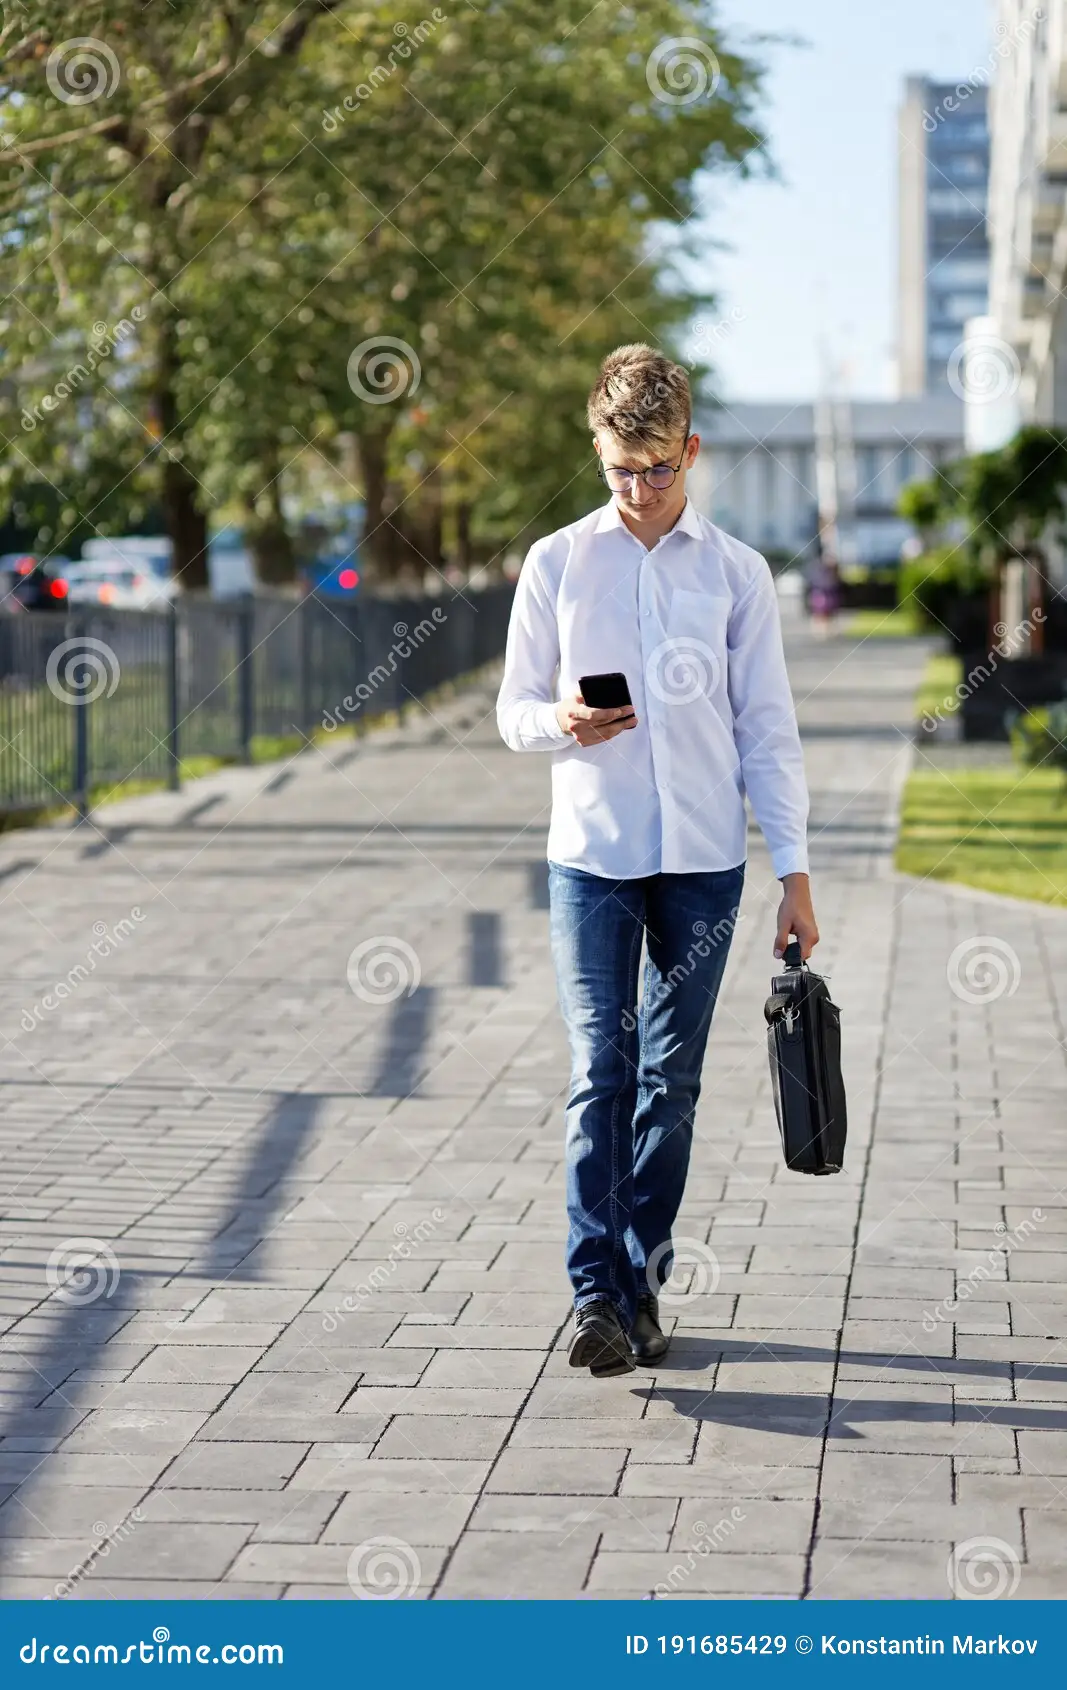person: (515, 336, 855, 1386)
